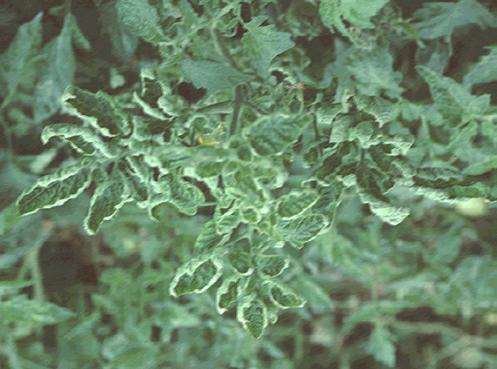Tomato leaf yellow virus: (18, 73, 137, 138), (14, 152, 105, 220), (240, 102, 322, 162), (19, 121, 128, 157), (254, 178, 326, 232), (75, 175, 120, 244), (279, 199, 339, 250), (236, 274, 271, 345), (169, 255, 228, 297), (257, 276, 324, 308)
